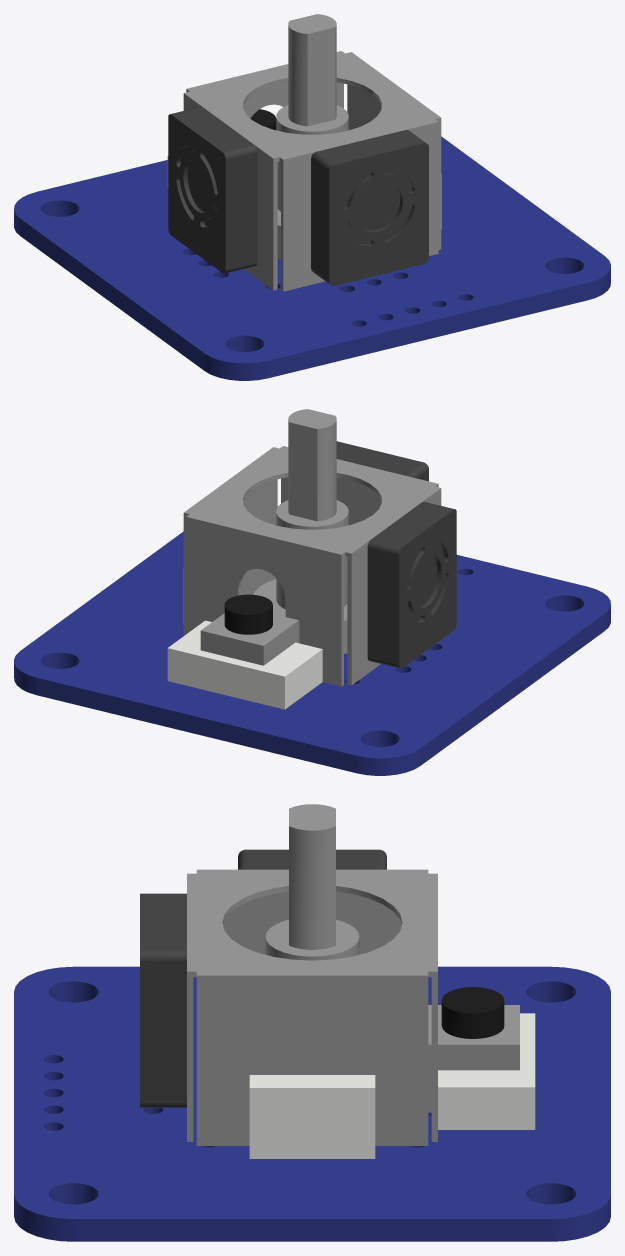
The model's file is ada-512.glb.
3 views of the same model, one above another, from view 1: azimuth 30°, elevation 25°; view 2: azimuth 150°, elevation 25°; view 3: azimuth 270°, elevation 25° (orthographic). The views are drawn at different scales.
Parts seen in each view (by area): view 1: 0_0.08333333333333333_0.3333333333333333_0, 0.08333333333333333_0.08333333333333333_0.08333333333333333_, 0.3333333333333333_0.3333333333333333_0.3333333333333333_0; view 2: 0_0.08333333333333333_0.3333333333333333_0, 0.3333333333333333_0.3333333333333333_0.3333333333333333_0, 0.08333333333333333_0.08333333333333333_0.08333333333333333_, 0.9166666666666666_0.9166666666666666_0.9166666666666666_0.8, 0_0_0_0; view 3: 0_0.08333333333333333_0.3333333333333333_0, 0.3333333333333333_0.3333333333333333_0.3333333333333333_0, 0.9166666666666666_0.9166666666666666_0.9166666666666666_0.8, 0.08333333333333333_0.08333333333333333_0.08333333333333333_, 0_0_0_0.
Part boxes in pixels (x1=…): 0_0.08333333333333333_0.3333333333333333_0: x1=14, y1=136, x2=610, y2=380; 0.08333333333333333_0.08333333333333333_0.08333333333333333_: x1=168, y1=106, x2=428, y2=285; 0.3333333333333333_0.3333333333333333_0.3333333333333333_0: x1=183, y1=14, x2=441, y2=291; 0_0.08333333333333333_0.3333333333333333_0: x1=14, y1=531, x2=610, y2=775; 0.3333333333333333_0.3333333333333333_0.3333333333333333_0: x1=183, y1=409, x2=441, y2=686; 0.08333333333333333_0.08333333333333333_0.08333333333333333_: x1=336, y1=441, x2=456, y2=668; 0.9166666666666666_0.9166666666666666_0.9166666666666666_0.8: x1=167, y1=569, x2=322, y2=709; 0_0_0_0: x1=224, y1=594, x2=272, y2=634; 0_0.08333333333333333_0.3333333333333333_0: x1=14, y1=966, x2=610, y2=1241; 0.3333333333333333_0.3333333333333333_0.3333333333333333_0: x1=187, y1=804, x2=519, y2=1145; 0.9166666666666666_0.9166666666666666_0.9166666666666666_0.8: x1=249, y1=1013, x2=535, y2=1158; 0.08333333333333333_0.08333333333333333_0.08333333333333333_: x1=140, y1=849, x2=386, y2=1107; 0_0_0_0: x1=441, y1=987, x2=504, y2=1038.
Size of the model in its own units: 3.81 by 2.1 by 3.81.
